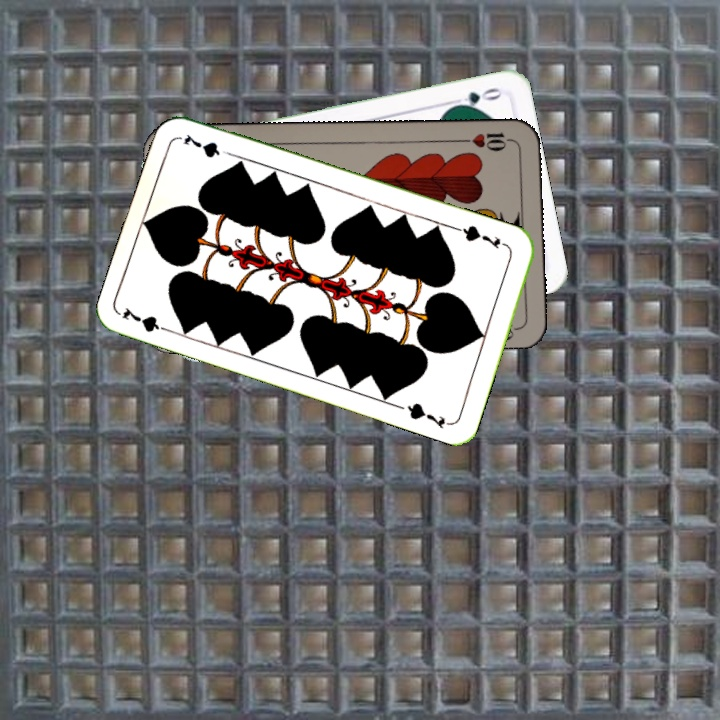G7: (118, 303, 177, 336), (453, 221, 511, 252)
GO: (447, 84, 504, 111)
H10: (458, 128, 517, 154)
